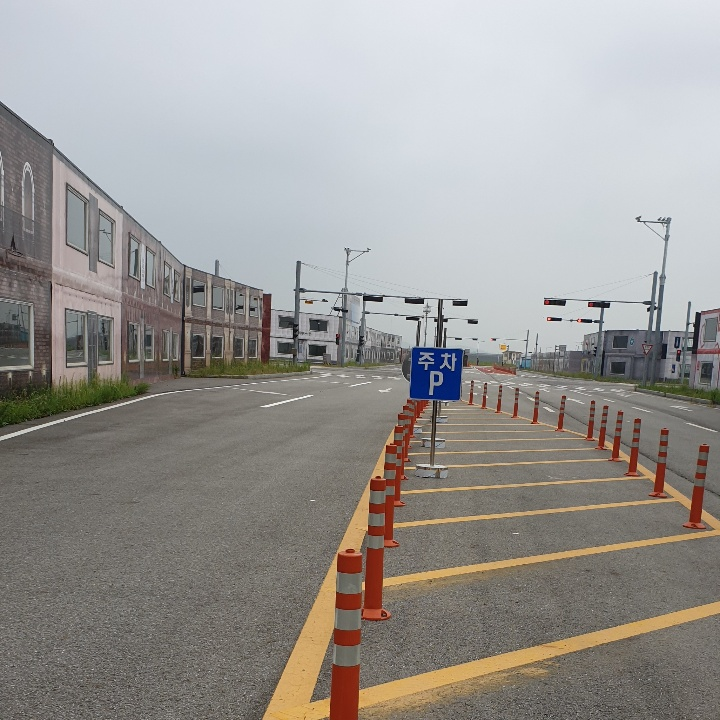parking: (426, 364, 447, 398)
